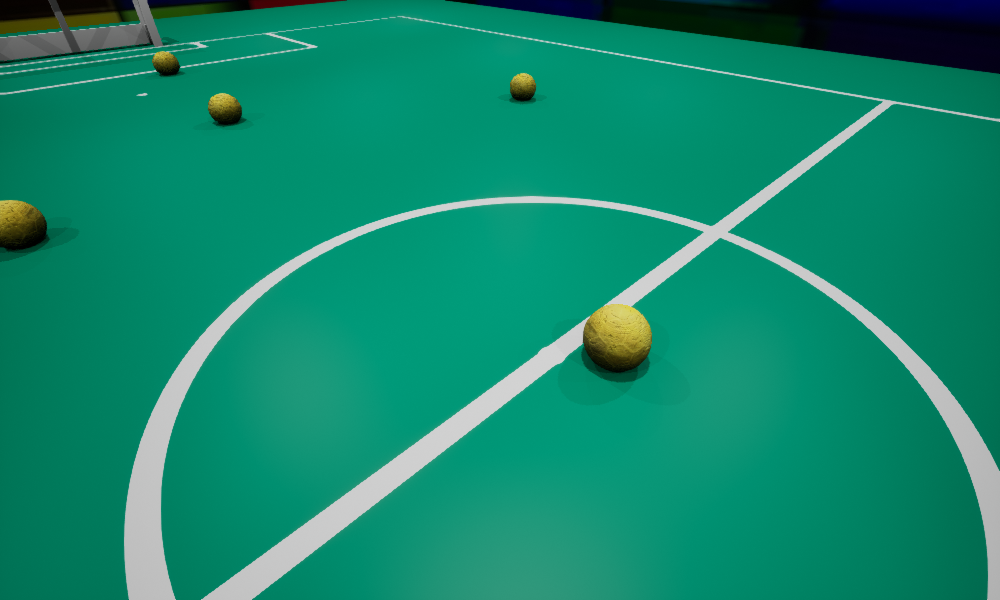b: (583, 304, 651, 371), (0, 200, 46, 248), (208, 93, 241, 123), (510, 73, 535, 100), (152, 51, 179, 74)
g: (0, 0, 162, 60)
